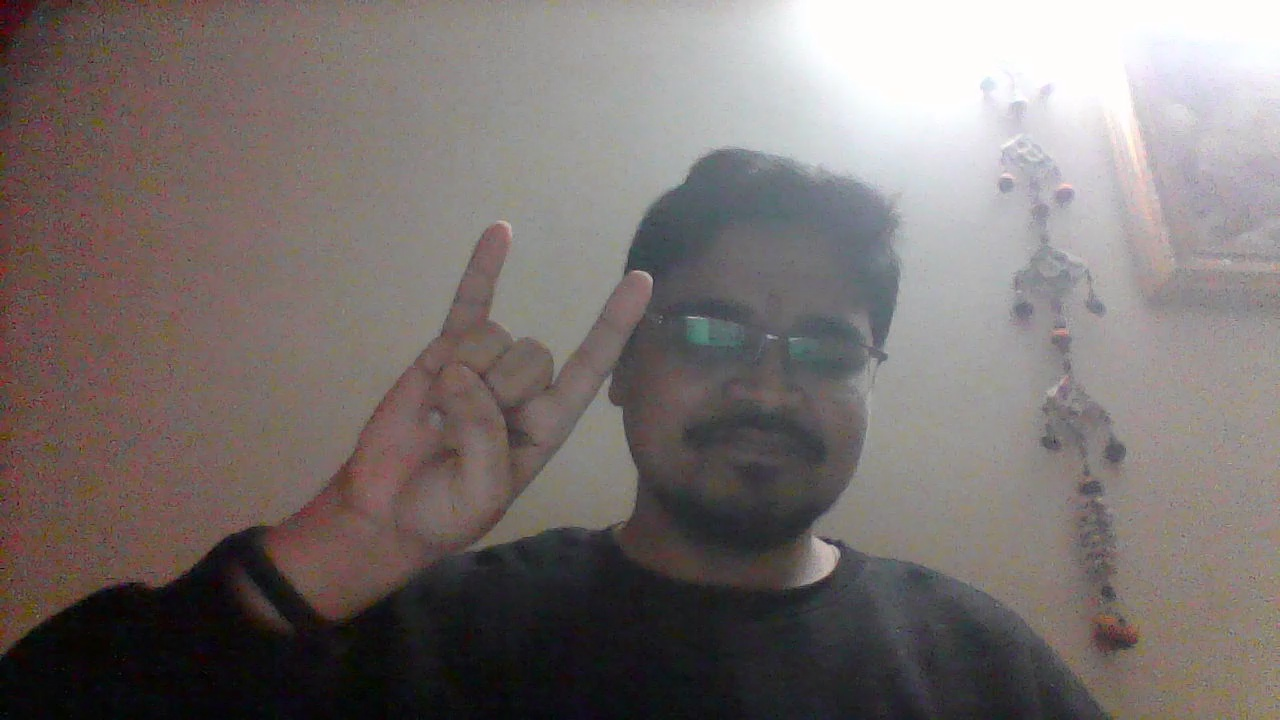ILoveYou: (317, 218, 658, 564)
